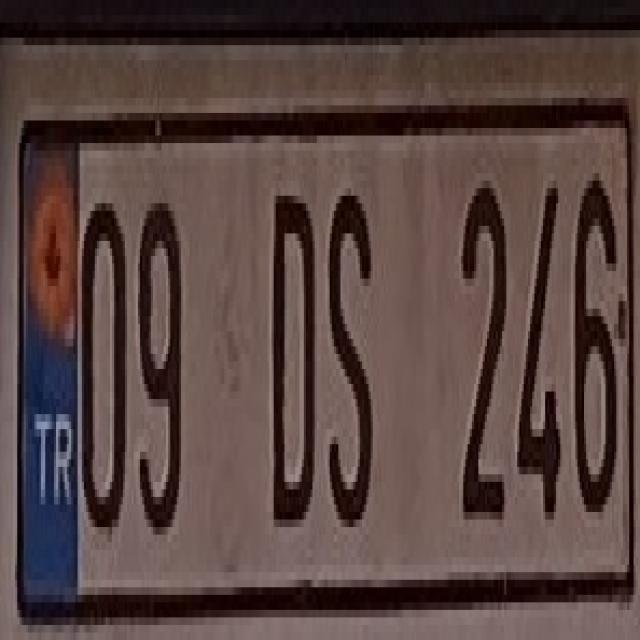0: (73, 180, 125, 520)
2: (448, 158, 511, 527)
4: (508, 158, 560, 512)
6: (566, 158, 620, 512)
9: (122, 166, 190, 534)
D: (263, 158, 315, 520)
S: (316, 166, 382, 534)
